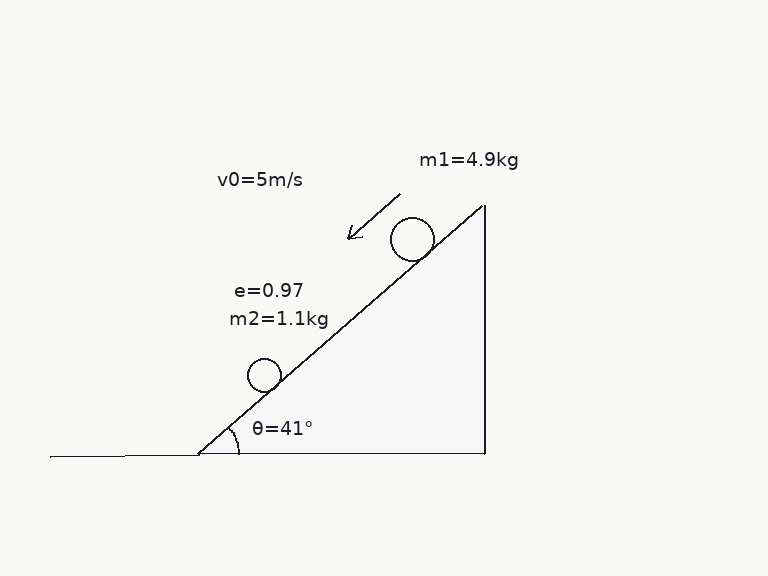ball: (388, 215, 436, 263), (245, 356, 283, 394)
ramp: (197, 204, 486, 456)
